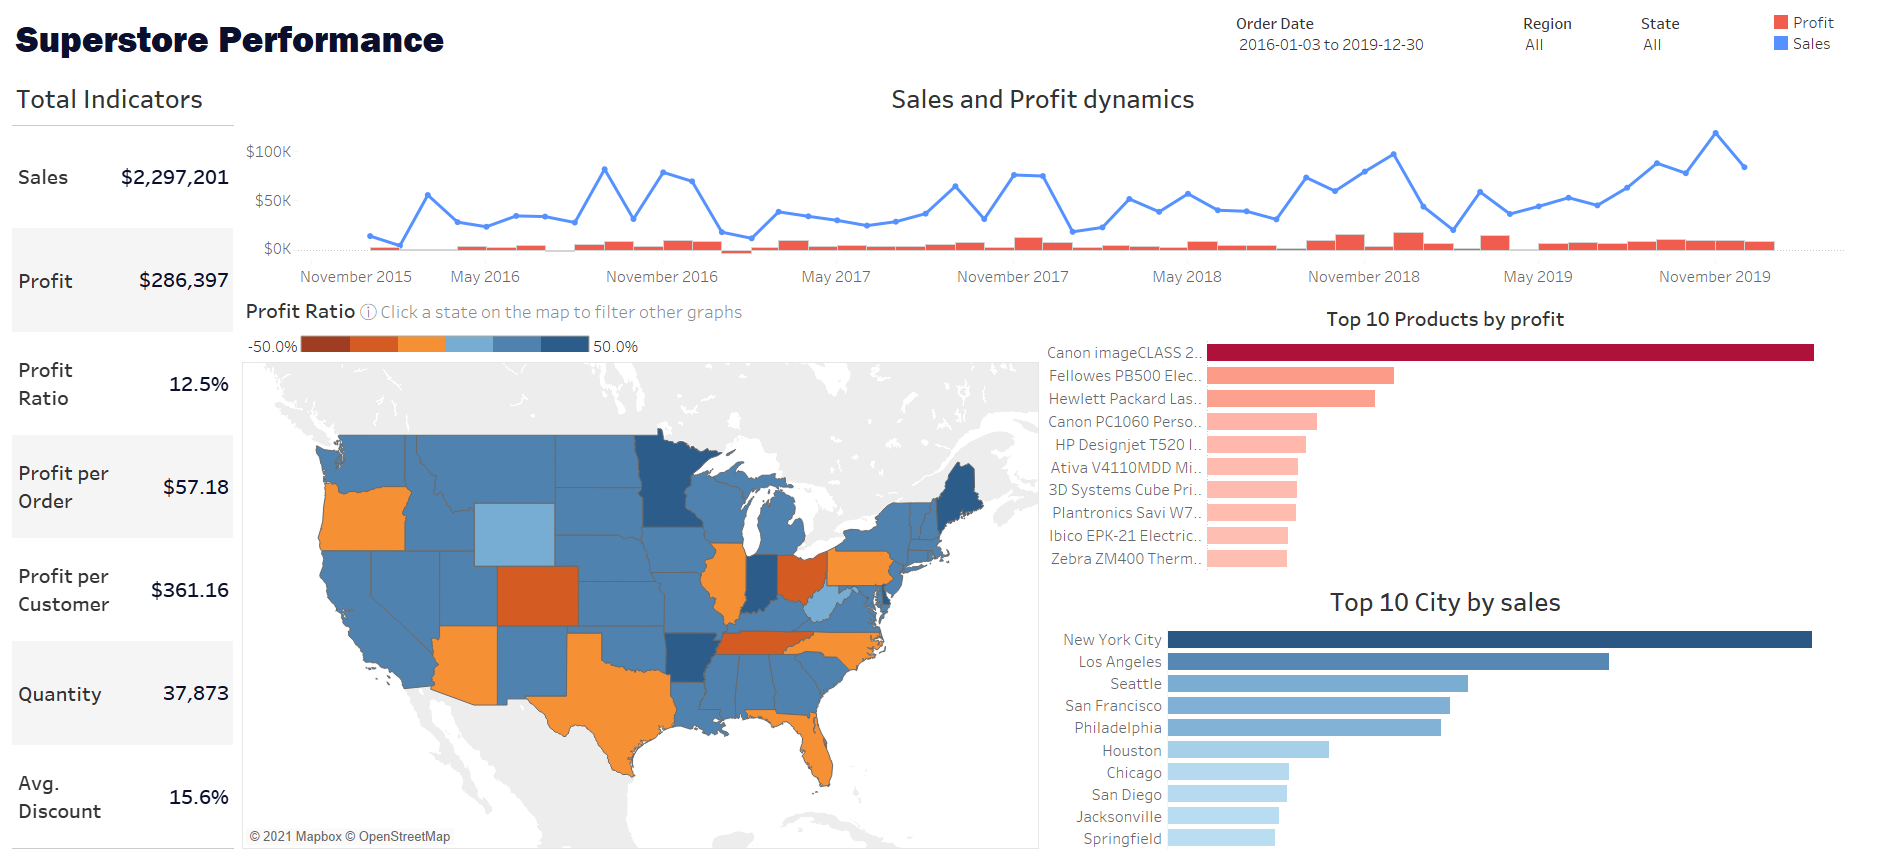

The dashboard page shown, as its layout file describes it:
{"tool":"tableau","page":{"name":"Performance","canvas":[1000,1000],"units":"permille","ordinal":0},"visuals":[{"type":"worksheet","title":"Dash Titile","mark":"Automatic","box":[5,9.3,302.9,73.2]},{"type":"blank","box":[307.9,9.3,276.7,73.2]},{"type":"filter","title":"Sales and Profit dynamics","param":"[federated.1m3zp9n0xdkzv91a14uex1rd6999].[none:order_date_id:qk]","box":[584.6,9.3,178.5,73.2]},{"type":"filter","title":"Sales and Profit dynamics","param":"[federated.1m3zp9n0xdkzv91a14uex1rd6999].[none:region:nk]","box":[763,9.3,73.4,73.2]},{"type":"filter","title":"Sales and Profit dynamics","param":"[federated.1m3zp9n0xdkzv91a14uex1rd6999].[none:state:nk]","box":[836.4,9.3,88.3,73.2]},{"type":"legend","title":"Sales and Profit dynamics","param":"[federated.1m3zp9n0xdkzv91a14uex1rd6999].[:Measure Names]","box":[924.7,9.3,70.3,73.2]},{"type":"worksheet","title":"Total Indicators","mark":"Automatic","box":[5,82.5,143,908.2]},{"type":"worksheet","title":"Sales and Profit dynamics","mark":"Automatic","rows":["sales","profit"],"cols":["order_date_id"],"box":[148,82.5,827.1,259]},{"type":"text","box":[148,341.5,413.6,37.2]},{"type":"worksheet","title":"Top 10 Products by profit","mark":"Automatic","rows":["product_name"],"cols":["profit"],"box":[561.6,341.5,413.6,325.2]},{"type":"legend","title":"Sales Map","param":"[federated.1m3zp9n0xdkzv91a14uex1rd6999].[usr:Calculation_282319428998217731:qk]","box":[148,378.6,413.6,37.2]},{"type":"worksheet","title":"Sales Map","mark":"Automatic","box":[148,415.8,413.6,574.9]},{"type":"worksheet","title":"Top 10 City by sales","mark":"Automatic","rows":["city"],"cols":["sales"],"box":[561.6,666.7,413.6,324]}]}

Visuals, with their boxes on the dashboard's canvas, which has no fixed pixel size, in thousandths of its width and height (x1, y1, x2, y2). These are canvas units, not pixel positions in the 1888x861 screenshot, which may show the page scaled, cropped or inside an application window:
"Dash Titile" worksheet: (5, 9, 308, 82)
blank: (308, 9, 585, 82)
"Sales and Profit dynamics" filter: (585, 9, 763, 82)
"Sales and Profit dynamics" filter: (763, 9, 836, 82)
"Sales and Profit dynamics" filter: (836, 9, 925, 82)
"Sales and Profit dynamics" legend: (925, 9, 995, 82)
"Total Indicators" worksheet: (5, 82, 148, 991)
"Sales and Profit dynamics" worksheet: (148, 82, 975, 342)
text: (148, 342, 562, 379)
"Top 10 Products by profit" worksheet: (562, 342, 975, 667)
"Sales Map" legend: (148, 379, 562, 416)
"Sales Map" worksheet: (148, 416, 562, 991)
"Top 10 City by sales" worksheet: (562, 667, 975, 991)
